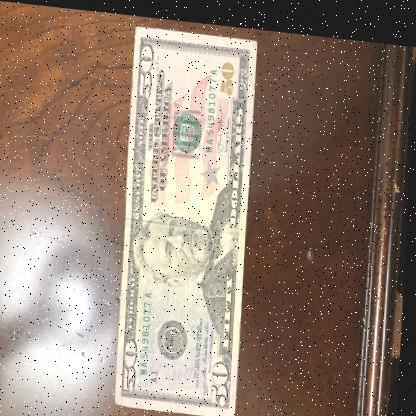fifty-front: (118, 21, 260, 414)
